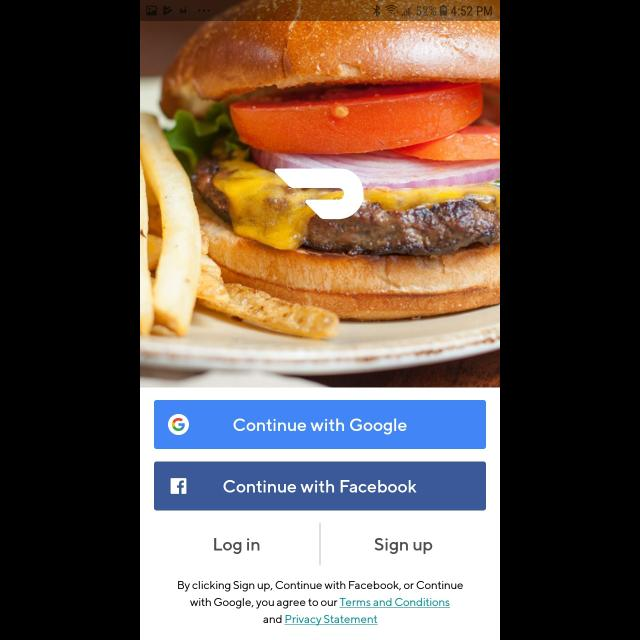image: (140, 22, 500, 388), (274, 168, 364, 220)
text: (178, 580, 464, 626), (375, 538, 433, 554), (214, 538, 260, 554)
textbutton: (154, 400, 486, 450), (154, 462, 486, 511)
uppertaskbar: (140, 1, 500, 22)
